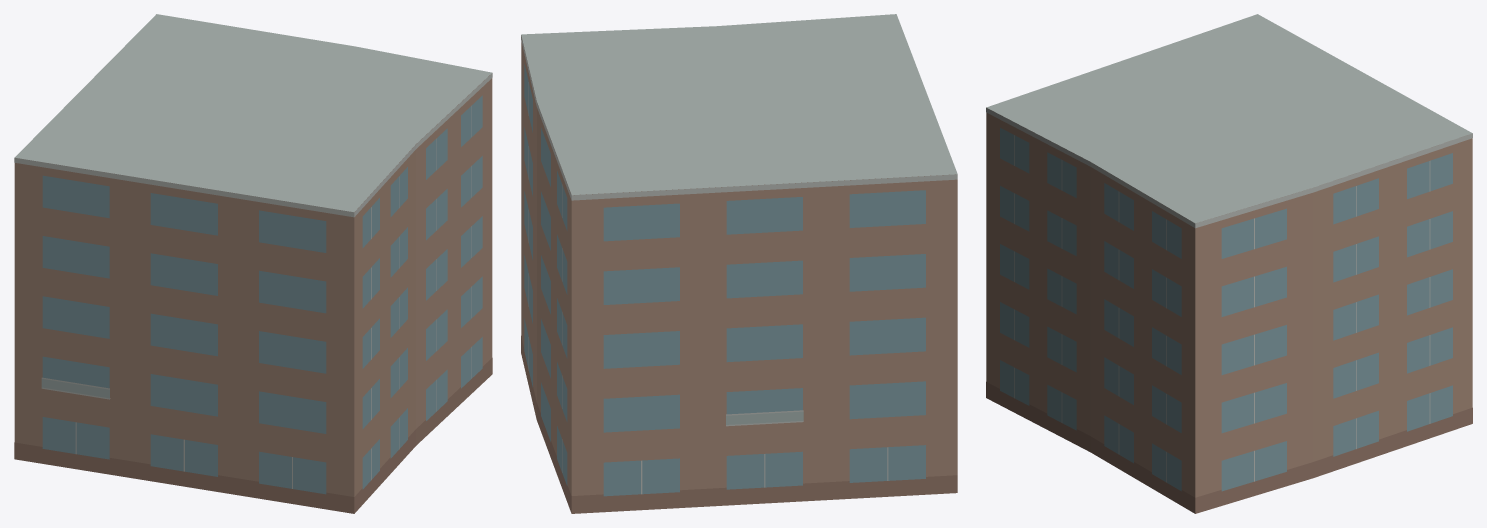
The model's file is survey-upis-32976739.glb.
3 views of the same model, side by side, from view 1: azimuth 30°, elevation 25°; view 2: azimuth 150°, elevation 25°; view 3: azimuth 270°, elevation 25° (orthographic). The views are drawn at different scales.
Parts seen in each view (by area): view 1: survey-upis-32976739.tmp; view 2: survey-upis-32976739.tmp; view 3: survey-upis-32976739.tmp.
Part boxes in pixels (box(x1,y1,x2,y2)): survey-upis-32976739.tmp: box(14, 14, 492, 513); survey-upis-32976739.tmp: box(521, 14, 957, 513); survey-upis-32976739.tmp: box(986, 14, 1472, 513).
Bounding box in the file's own units: 22.43 × 14.5 × 22.02.
